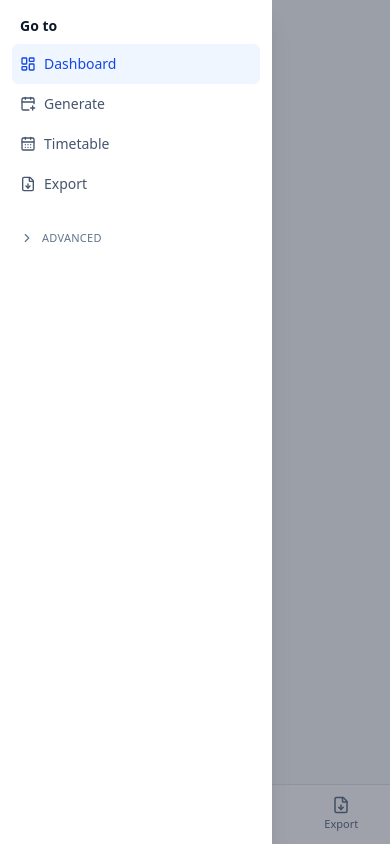
the drawer › folds Advanced behind an arrow, closed on an everyday page
Expected: the link "Validation" is not shown
Click the button "Advanced": {"x": 136, "y": 238} [12,220,260,256]
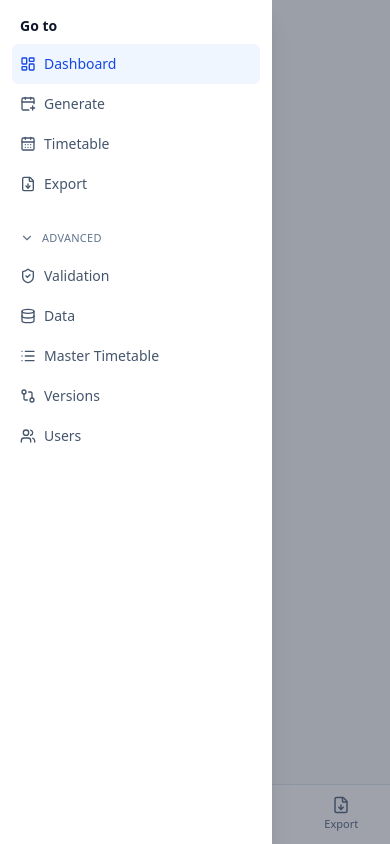
Expected: the button "Advanced" is expanded
Expected: the link "Validation" is shown, [20,266,110,285]
Expected: the link "Data" is shown, [20,306,75,325]
Click the button "Advanced": {"x": 136, "y": 238} [12,220,260,256]
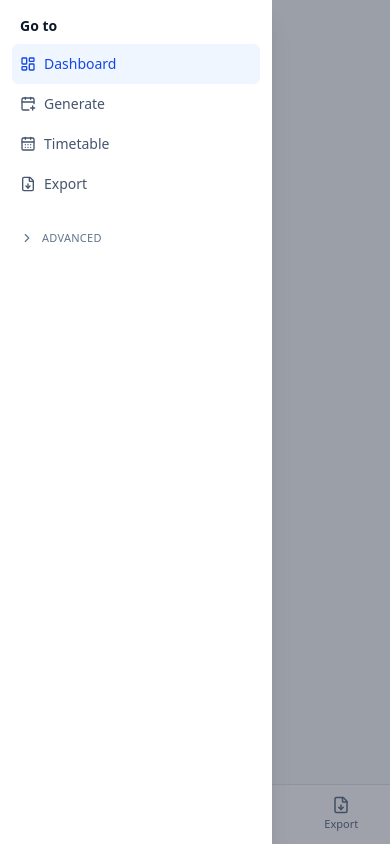
Expected: the button "Advanced" is collapsed, [12,220,260,256]
Expected: the link "Master Timetable" is gone
